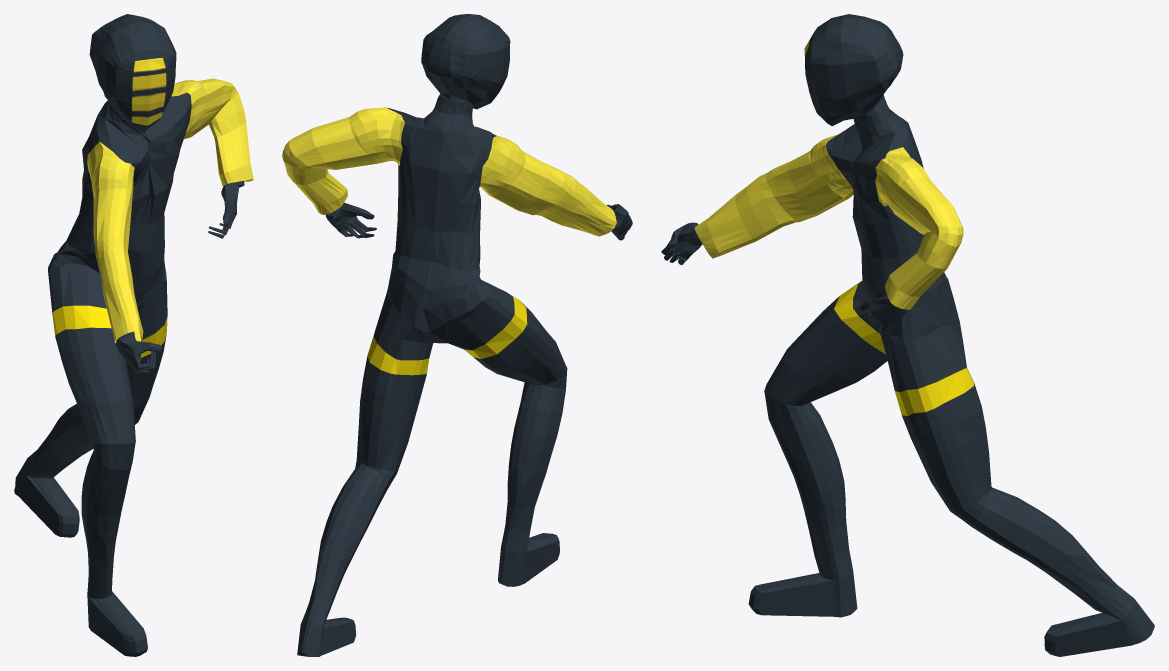
The model's file is Sentry_Die_000002.obj.
3 views of the same model, side by side, from view 1: azimuth 30°, elevation 25°; view 2: azimuth 150°, elevation 25°; view 3: azimuth 270°, elevation 25° (orthographic). The views are drawn at different scales.
Visible parts, largest first — view 1: Cube; view 2: Cube; view 3: Cube.
Part boxes in pixels (box(x1,y1,x2,y2)): Cube: box(14, 14, 253, 656); Cube: box(282, 14, 632, 656); Cube: box(661, 14, 1154, 656).
Bounding box in the file's own units: 1.5 × 3.52 × 2.55.
